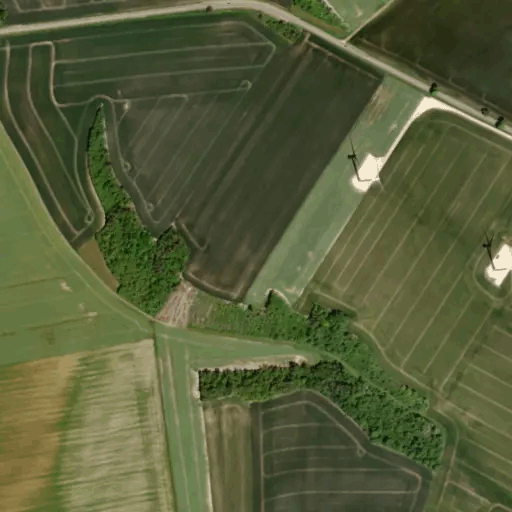wt: (345, 138, 385, 192), (480, 230, 510, 281)
